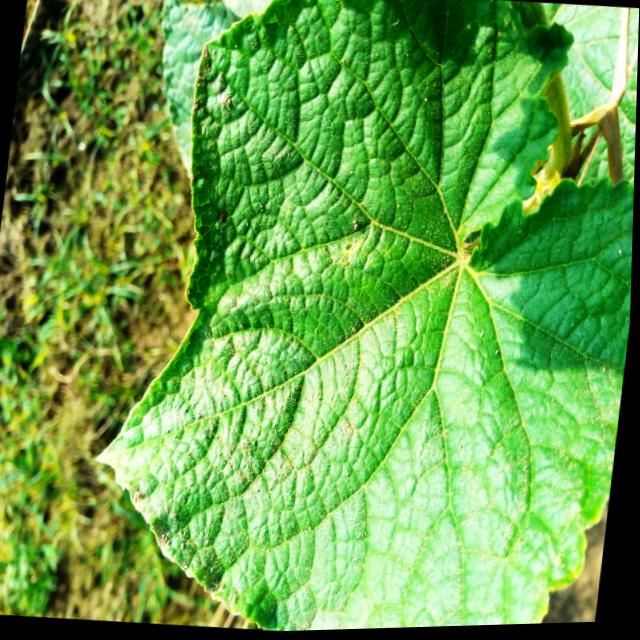Fresh-Leaf: (91, 0, 634, 631)
